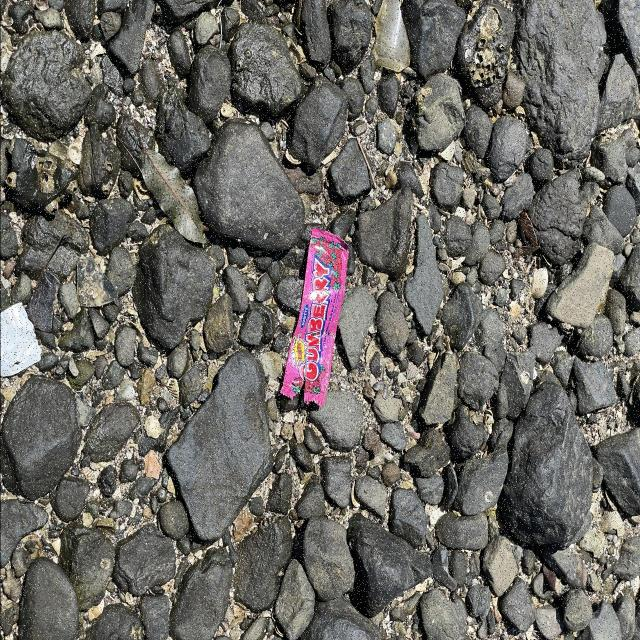plastic_waste: (281, 229, 352, 410)
